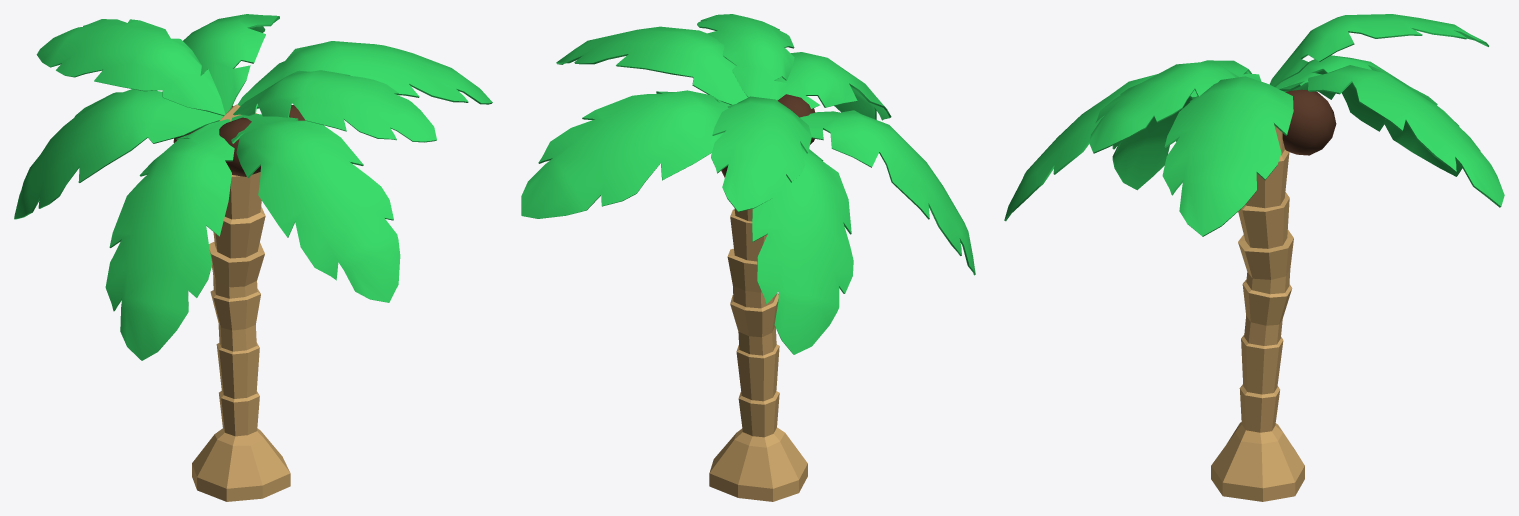
Rendered from Palmier.fbx.
3 views of the same model, side by side, from view 1: azimuth 30°, elevation 25°; view 2: azimuth 150°, elevation 25°; view 3: azimuth 270°, elevation 25° (orthographic). The views are drawn at different scales.
Parts seen in each view (by area): view 1: leaf5.003; view 2: leaf5.003; view 3: leaf5.003.
Part boxes in pixels (bbox=[...]): leaf5.003: bbox=[14, 14, 492, 501]; leaf5.003: bbox=[521, 14, 975, 501]; leaf5.003: bbox=[1004, 14, 1504, 501].
Size of the model in its own units: 396 by 408 by 422.
3 materials, 3 textured.
